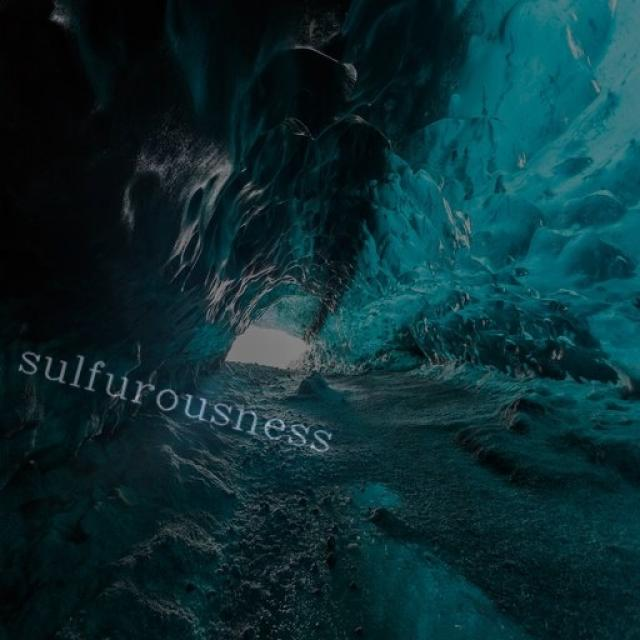watermark: (5, 337, 359, 461)
